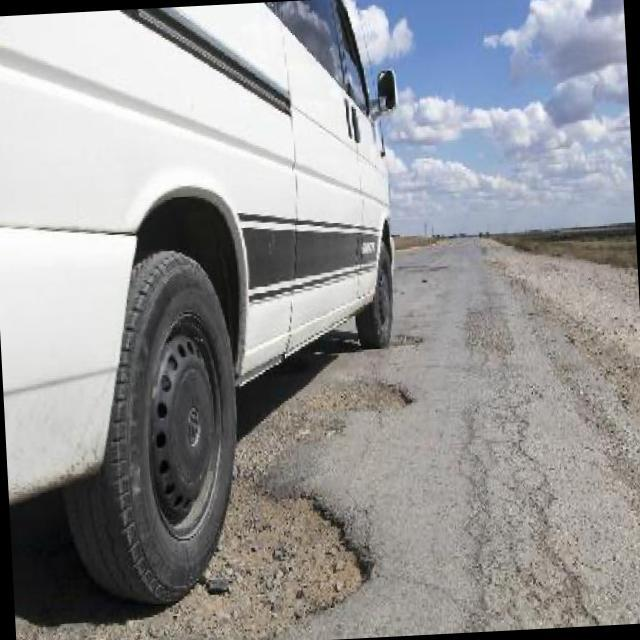Pothole: (16, 482, 363, 640), (294, 380, 408, 439)
